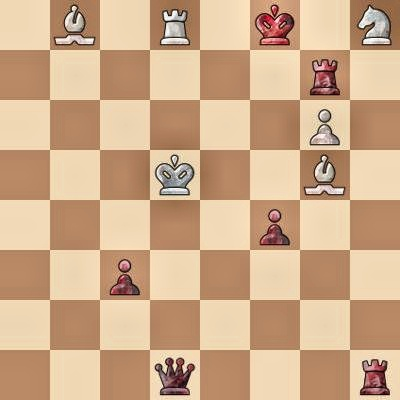black-king: (250, 0, 300, 50)
black-pawn: (250, 200, 300, 250), (100, 250, 150, 300)
black-queen: (150, 350, 200, 400)
black-rook: (300, 50, 350, 100), (350, 350, 400, 400)
white-bishop: (50, 0, 100, 50), (300, 150, 350, 200)
white-king: (150, 150, 200, 200)
white-knight: (350, 0, 400, 50)
white-pawn: (300, 100, 350, 150)
white-rook: (150, 0, 200, 50)
